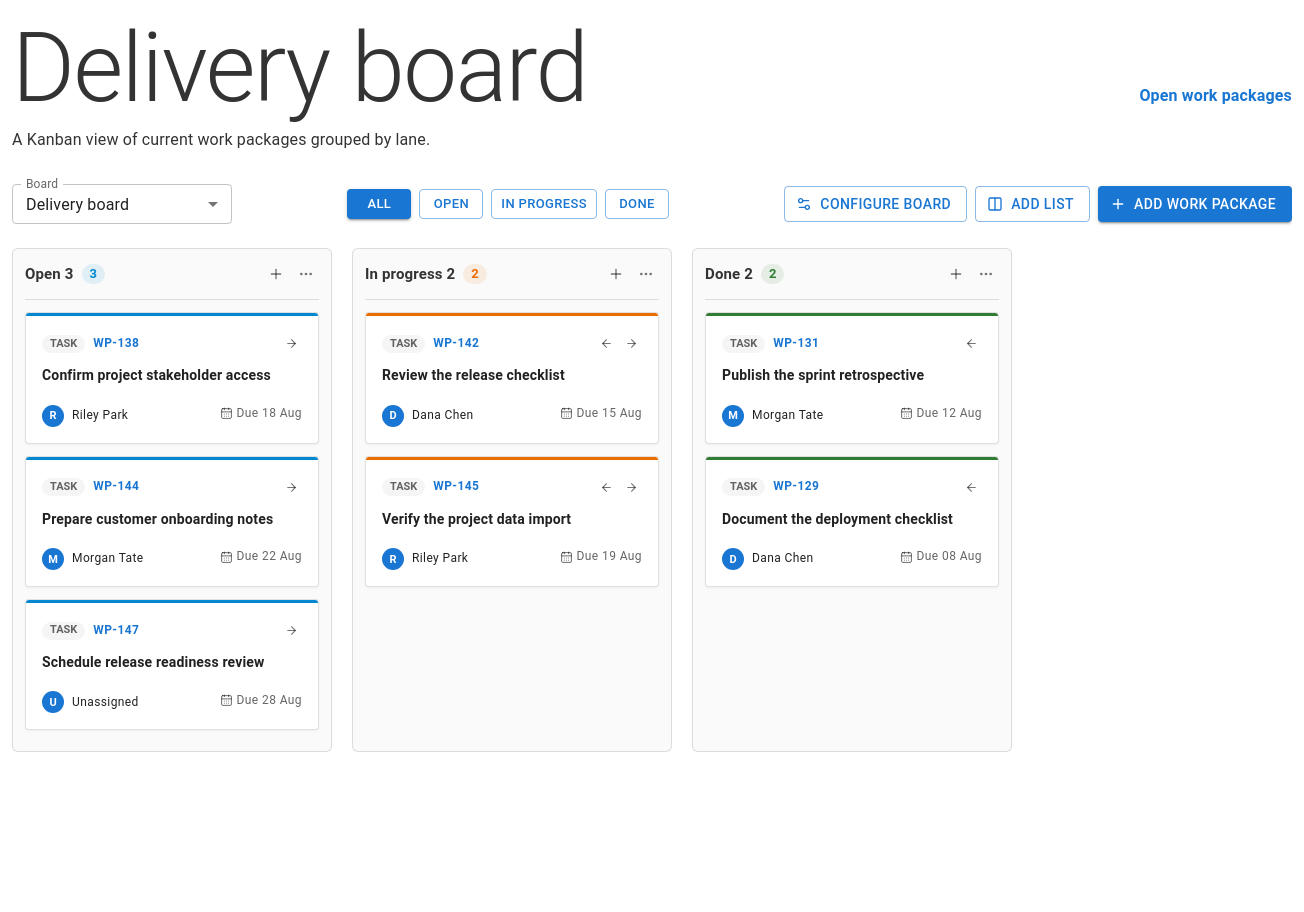
Test: ProjectBoard › validates and adds an inline work package locally
Click the button "Add work package". click: (1195, 204)
box: [1098,186,1292,222]
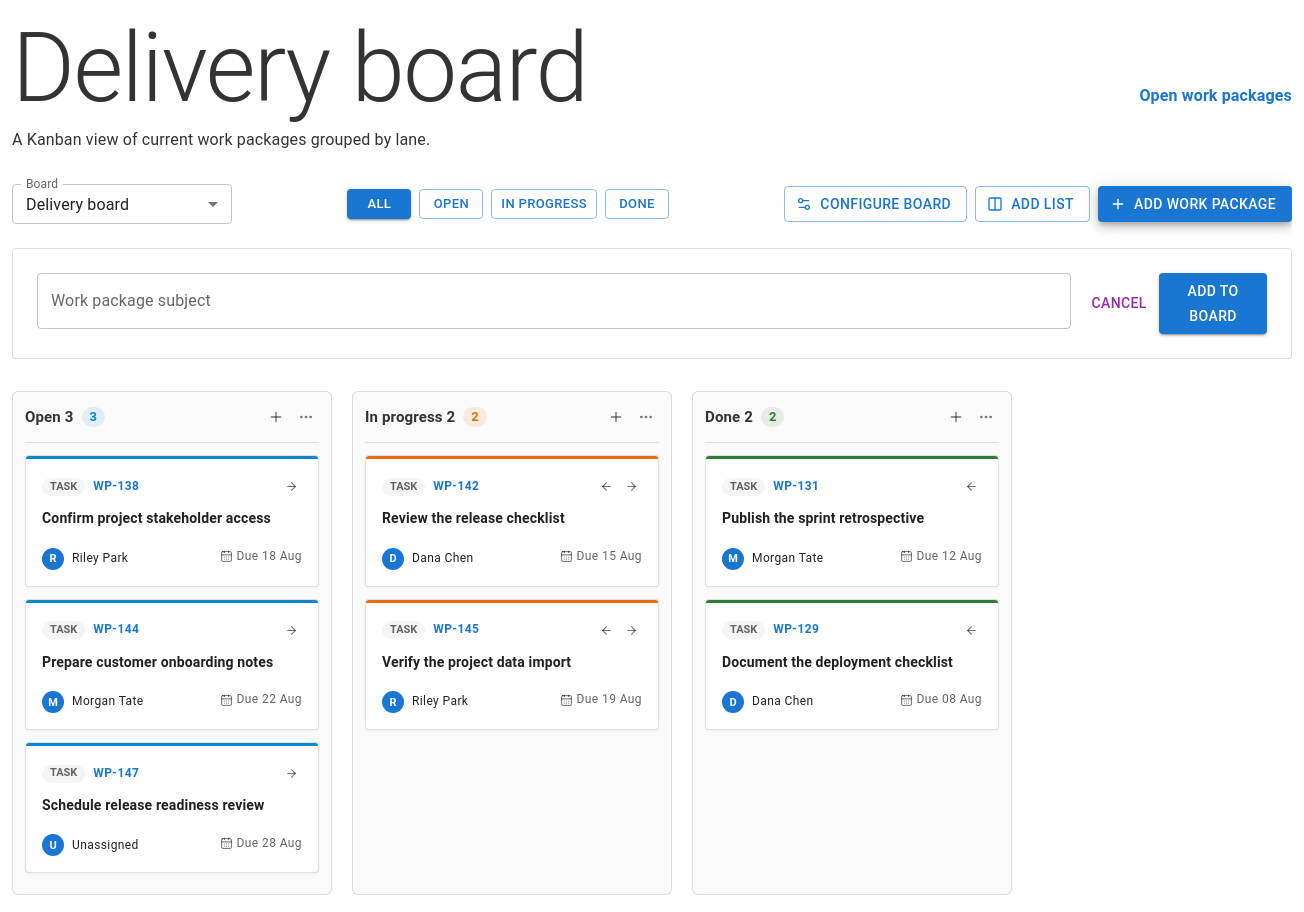
Click the button "Add to board". click: (1213, 304)
box: [1159,273,1267,334]
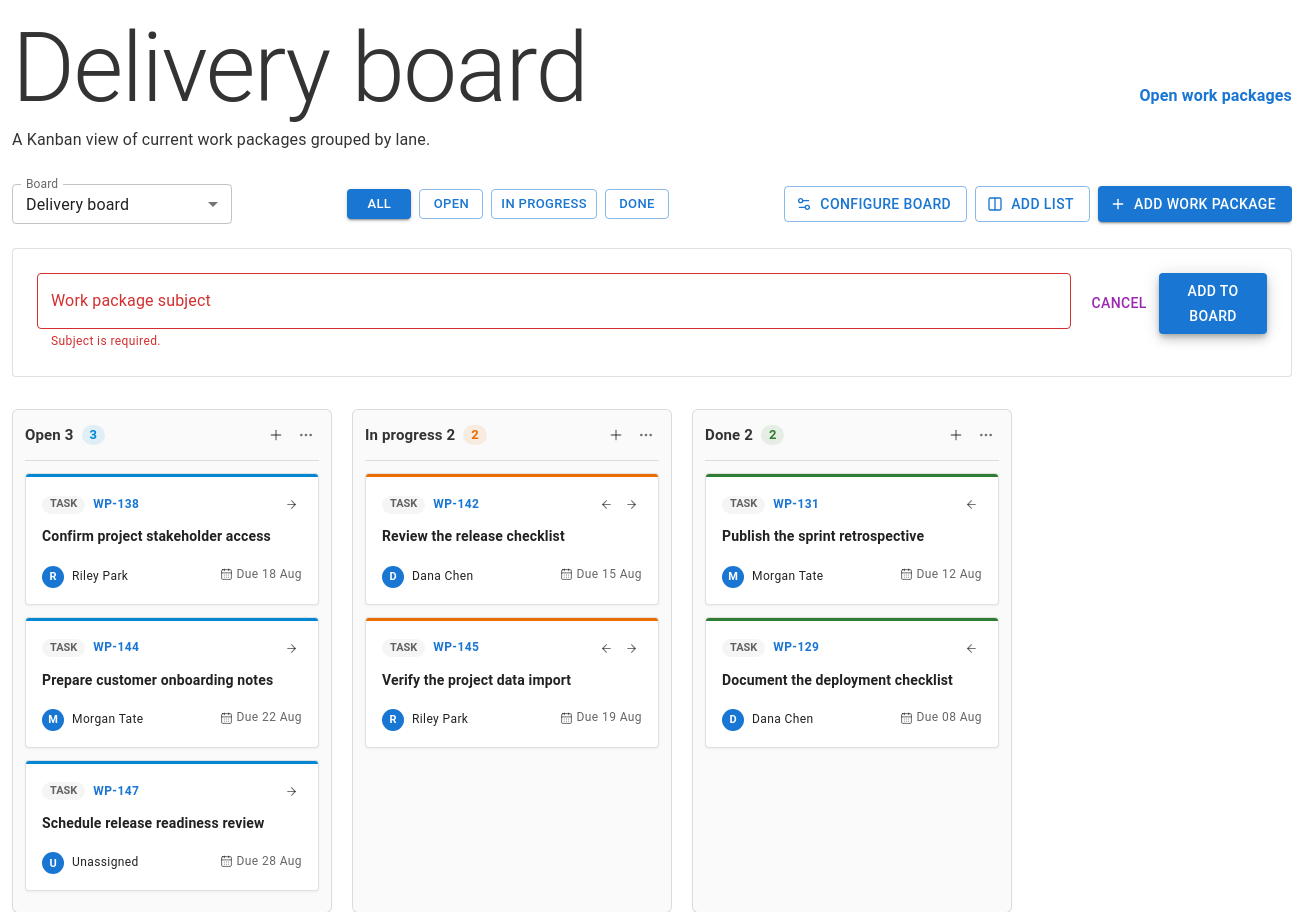
expect the text "Subject is required." is shown: met, box [51,334,161,348]
Type "Confirm incident runbook" into the field labelled "Work package subject". click: (554, 301)
box: [37,273,1071,329]
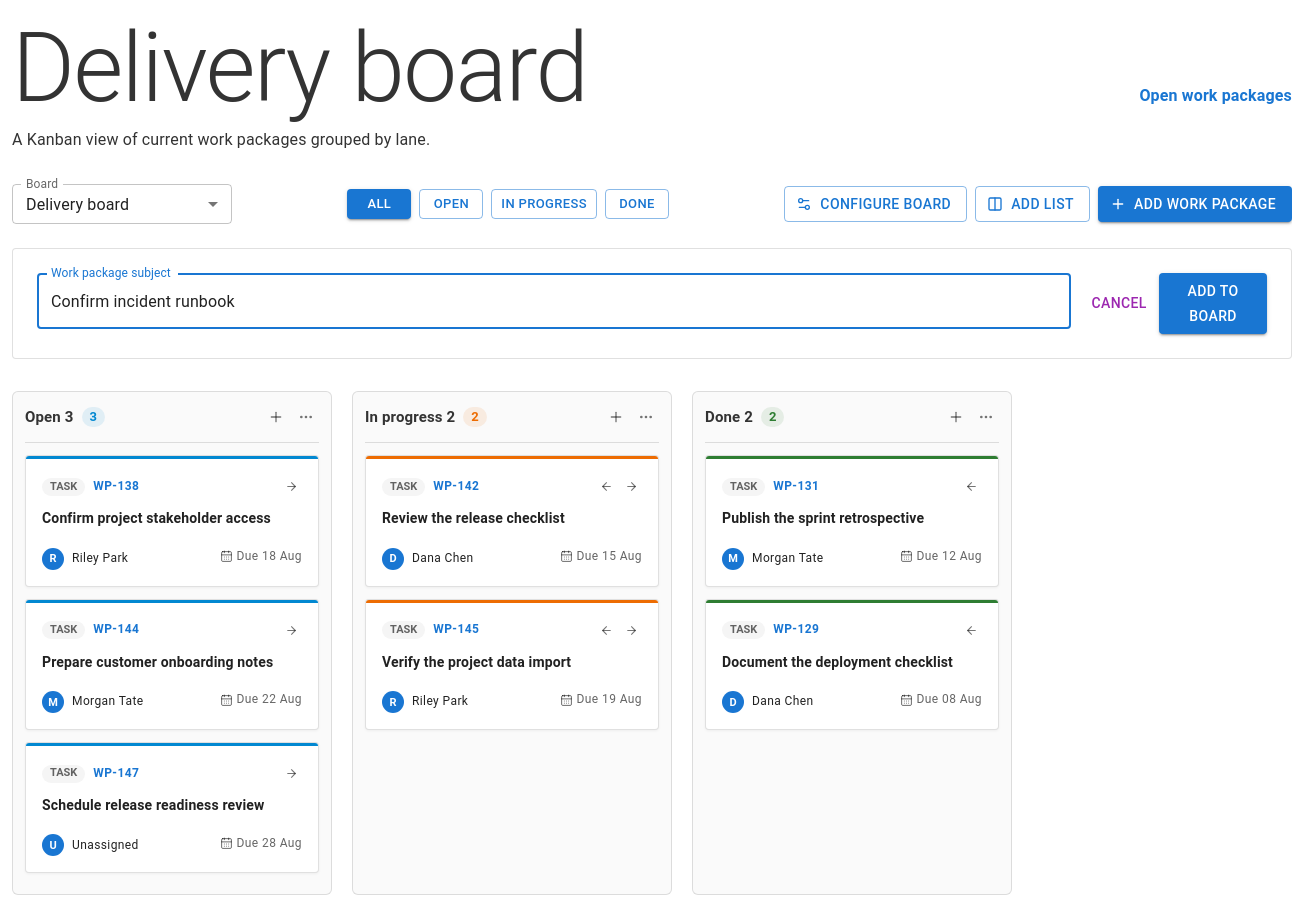
Click the button "Add to board". click: (1213, 304)
box: [1159,273,1267,334]
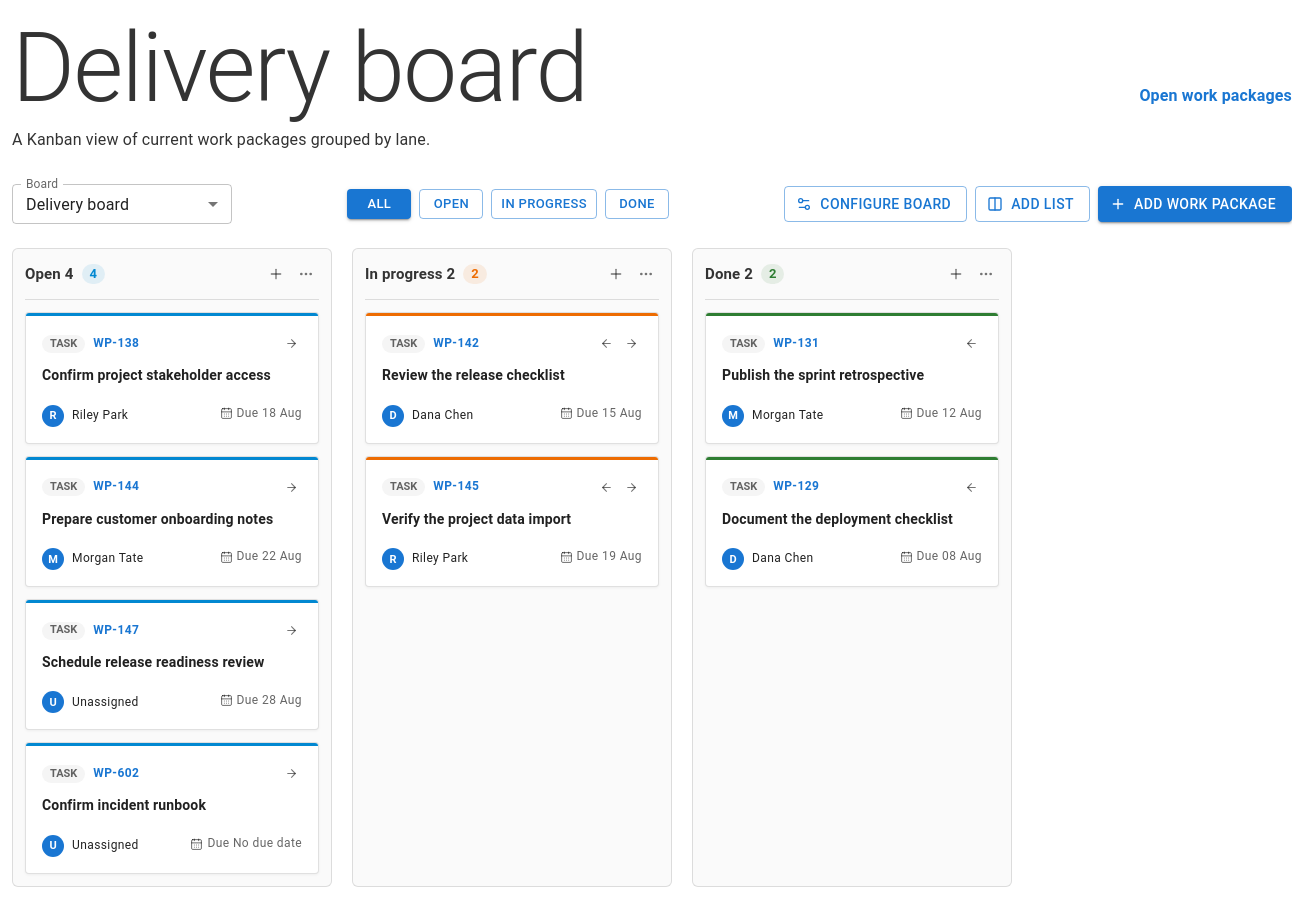
expect the link "Confirm incident runbook" is shown: met, box [42,798,206,814]
